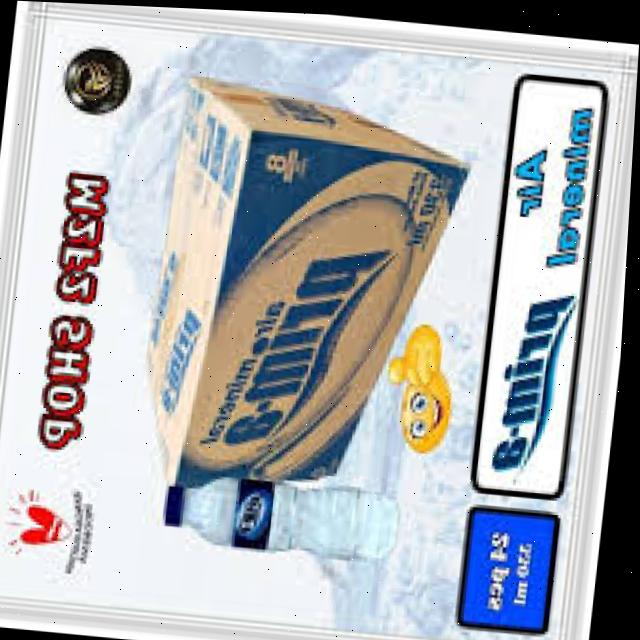Dry: (157, 459, 413, 575)
